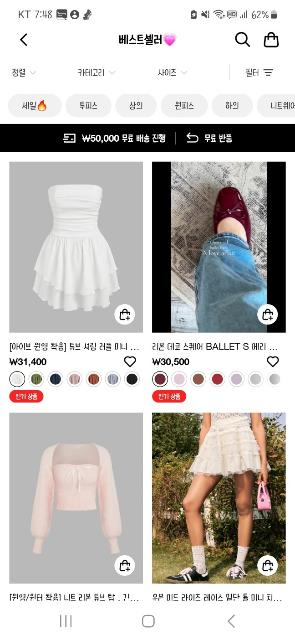Icon: (234, 32, 252, 48), (264, 31, 278, 47), (174, 100, 194, 110), (271, 101, 295, 109), (79, 100, 97, 110), (267, 356, 279, 368), (21, 102, 37, 110), (130, 100, 142, 110), (63, 133, 75, 143), (186, 133, 198, 143), (124, 357, 136, 367), (20, 32, 28, 46), (226, 101, 238, 109), (264, 68, 274, 76), (180, 70, 188, 76), (30, 69, 36, 75), (110, 70, 116, 74)
Image: (153, 412, 287, 584), (153, 162, 287, 332), (10, 162, 142, 332), (10, 413, 142, 583), (162, 32, 178, 46), (37, 98, 47, 112)
ImageButton: (115, 303, 135, 325), (258, 555, 278, 577), (258, 304, 278, 324), (115, 554, 135, 574), (67, 371, 83, 387), (210, 371, 226, 387), (248, 371, 264, 387), (268, 371, 284, 387), (86, 371, 101, 387), (9, 372, 25, 386), (29, 372, 45, 386), (48, 372, 64, 386), (105, 372, 121, 386), (124, 372, 140, 386), (152, 372, 168, 386), (191, 372, 207, 386), (229, 372, 245, 386), (171, 372, 186, 386)
Text: (9, 592, 140, 602), (10, 342, 140, 352), (153, 342, 280, 352), (153, 593, 284, 601), (82, 134, 166, 144), (118, 34, 162, 46), (10, 356, 47, 366), (152, 358, 190, 366), (206, 134, 232, 142), (78, 68, 104, 76), (159, 393, 181, 401), (159, 69, 177, 77), (12, 68, 26, 78), (16, 393, 38, 399), (246, 68, 260, 76)
TextButton: (66, 93, 112, 117), (161, 94, 209, 116), (115, 94, 157, 118), (212, 94, 253, 118), (258, 94, 294, 118)
TextImageButton: (9, 94, 62, 118)
Toolbar: (0, 27, 295, 56)
UpperTaskBar: (0, 0, 295, 27)
